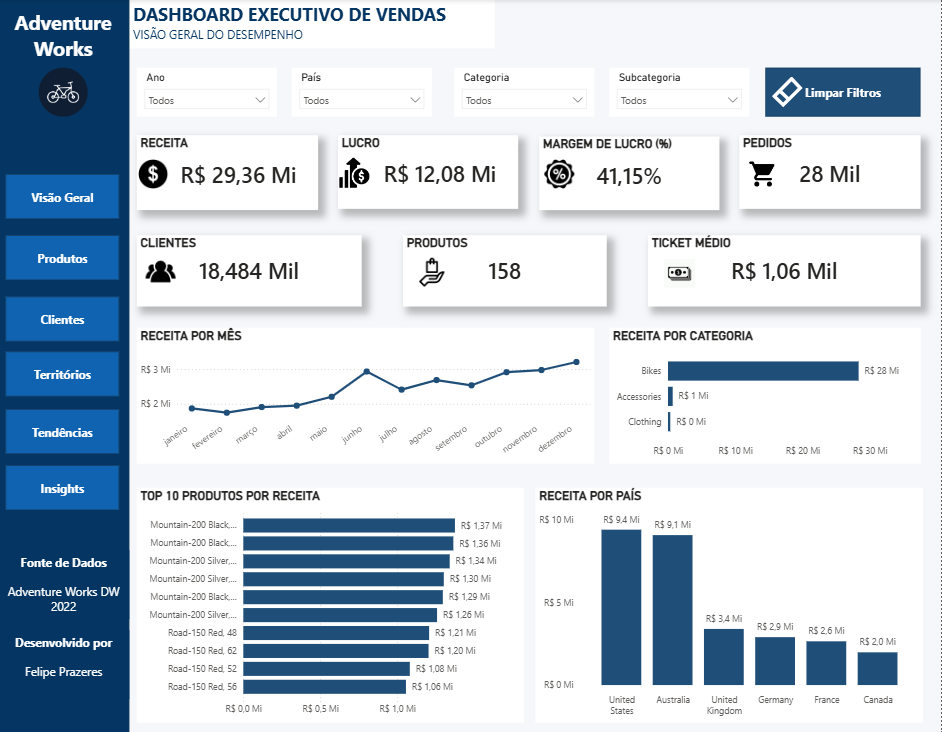

The page's visual inventory and layout, read from the dashboard file:
{"tool":"powerbi","page":{"name":"Página 1","canvas":[1280,1000],"ordinal":0},"visuals":[{"type":"cardVisual","title":"RECEITA","fields":{"Data":["_Medidas.Receita"]},"box":[188.5,185.1,246.3,101.9],"z":0},{"type":"lineChart","title":"RECEITA POR MÊS","fields":{"Category":["DimDate.FullDateAlternateKey.Variation.Hierarquia de datas.Ano","DimDate.FullDateAlternateKey.Variation.Hierarquia de datas.Mês"],"Y":["_Medidas.Receita"]},"box":[188.5,446.7,621.6,185.1],"z":1000},{"type":"barChart","title":"RECEITA POR CATEGORIA","fields":{"Y":["_Medidas.Receita"],"Category":["vw_FatoVendas.Categoria"]},"box":[830.5,446.7,422.9,185.1],"z":2000},{"type":"barChart","title":"TOP 10 PRODUTOS POR RECEITA","fields":{"Category":["vw_FatoVendas.Produto"],"Y":["_Medidas.Receita"]},"box":[188.5,664.1,526.5,319.3],"z":3000},{"type":"textbox","box":[178.4,0,496.7,67.2],"z":4000},{"type":"shape","box":[0,0,178.3,1000.3],"z":5000},{"type":"cardVisual","title":"LUCRO","fields":{"Data":["_Medidas.Lucro"]},"box":[462.5,185.1,244.6,100.2],"z":6000},{"type":"cardVisual","title":"MARGEM DE LUCRO (%)","fields":{"Data":["_Medidas.%MargemLucro"]},"box":[734.8,186.8,244.6,100.2],"z":7000},{"type":"cardVisual","title":"PEDIDOS","fields":{"Data":["_Medidas.TotalPedidos"]},"box":[1007.1,185.1,246.3,100.2],"z":8000},{"type":"cardVisual","title":"CLIENTES","fields":{"Data":["_Medidas.TotalClientes"]},"box":[188.5,321,305.7,96.8],"z":9000},{"type":"cardVisual","title":"PRODUTOS","fields":{"Data":["_Medidas.TotalProdutos"]},"box":[550.3,321,276.8,96.8],"z":10000},{"type":"cardVisual","title":"TICKET MÉDIO","fields":{"Data":["_Medidas.Ticket"]},"box":[883.2,321,370.2,96.8],"z":11000},{"type":"slicer","fields":{"Values":["DimDate.FullDateAlternateKey.Variation.Hierarquia de datas.Ano"]},"box":[188.5,93.4,190.2,66.2],"z":12000},{"type":"columnChart","title":"RECEITA POR PAÍS","fields":{"Y":["_Medidas.Receita"],"Category":["DimGeography.EnglishCountryRegionName"]},"box":[730.3,664.1,526.5,319.3],"z":13000},{"type":"slicer","fields":{"Values":["DimGeography.EnglishCountryRegionName"]},"box":[399.1,93.4,190.2,66.2],"z":14000},{"type":"slicer","fields":{"Values":["vw_FatoVendas.Categoria"]},"box":[619.9,93.4,190.2,66.2],"z":15000},{"type":"slicer","fields":{"Values":["vw_FatoVendas.Subcategoria"]},"box":[830.5,93.4,190.2,66.2],"z":16000},{"type":"shape","box":[1042.8,93.4,210.6,66.2],"z":17000},{"type":"actionButton","box":[1047.9,101.9,200.4,49.3],"z":18000},{"type":"shape","box":[10.2,237.8,154.6,61.1],"z":19000},{"type":"shape","box":[10.2,321,154.6,61.1],"z":20000},{"type":"shape","box":[10.2,404.2,154.6,61.1],"z":21000},{"type":"shape","box":[10.2,478.9,154.6,61.1],"z":22000},{"type":"shape","box":[10.2,557.1,154.6,61.1],"z":23000},{"type":"shape","box":[10.2,633.5,154.6,61.1],"z":24000},{"type":"textbox","box":[5.1,8.5,166.4,84.9],"z":25000},{"type":"textbox","box":[0,749,178.3,93.4],"z":26000},{"type":"textbox","box":[0,857.7,178.3,93.4],"z":27000},{"type":"image","box":[178.3,217.4,64.5,40.8],"z":28000},{"type":"image","box":[451.8,215.7,64.5,40.8],"z":29000},{"type":"image","box":[730.3,217.4,64.5,40.8],"z":30000},{"type":"image","box":[1007.1,217.4,64.5,40.8],"z":31000},{"type":"image","box":[188.5,349.9,64.5,40.8],"z":32000},{"type":"image","box":[557.1,351.6,64.5,39.1],"z":33000},{"type":"image","box":[893.3,353.3,64.5,39.1],"z":34000},{"type":"image","box":[30.6,93.4,115.5,66.2],"z":35000}]}

Visuals, with their boxes in screenshot pixels (x1, y1, x2, y2), scaled from the page's 1280x1000 canvas onto the 942x732 screenshot:
"RECEITA" cardVisual: 139:135:320:210
"RECEITA POR MÊS" lineChart: 139:327:596:462
"RECEITA POR CATEGORIA" barChart: 611:327:922:462
"TOP 10 PRODUTOS POR RECEITA" barChart: 139:486:526:720
textbox: 131:0:497:49
shape: 0:0:131:731
"LUCRO" cardVisual: 340:135:520:209
"MARGEM DE LUCRO (%)" cardVisual: 541:137:721:210
"PEDIDOS" cardVisual: 741:135:922:209
"CLIENTES" cardVisual: 139:235:364:306
"PRODUTOS" cardVisual: 405:235:609:306
"TICKET MÉDIO" cardVisual: 650:235:922:306
slicer - DimDate.FullDateAlternateKey.Variation.Hierarquia de datas.Ano: 139:68:279:117
"RECEITA POR PAÍS" columnChart: 537:486:925:720
slicer - DimGeography.EnglishCountryRegionName: 294:68:434:117
slicer - vw_FatoVendas.Categoria: 456:68:596:117
slicer - vw_FatoVendas.Subcategoria: 611:68:751:117
shape: 767:68:922:117
actionButton: 771:75:919:111
shape: 8:174:121:219
shape: 8:235:121:280
shape: 8:296:121:341
shape: 8:351:121:395
shape: 8:408:121:453
shape: 8:464:121:508
textbox: 4:6:126:68
textbox: 0:548:131:617
textbox: 0:628:131:696
image: 131:159:179:189
image: 332:158:380:188
image: 537:159:585:189
image: 741:159:789:189
image: 139:256:186:286
image: 410:257:457:286
image: 657:259:705:287
image: 23:68:108:117
